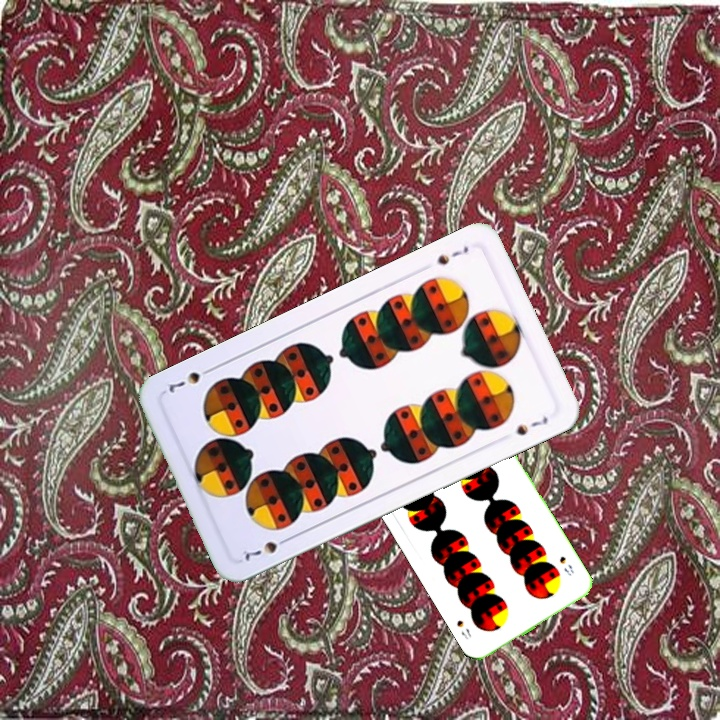S7: (237, 533, 294, 564), (433, 241, 471, 268)
S8: (555, 552, 577, 578)
